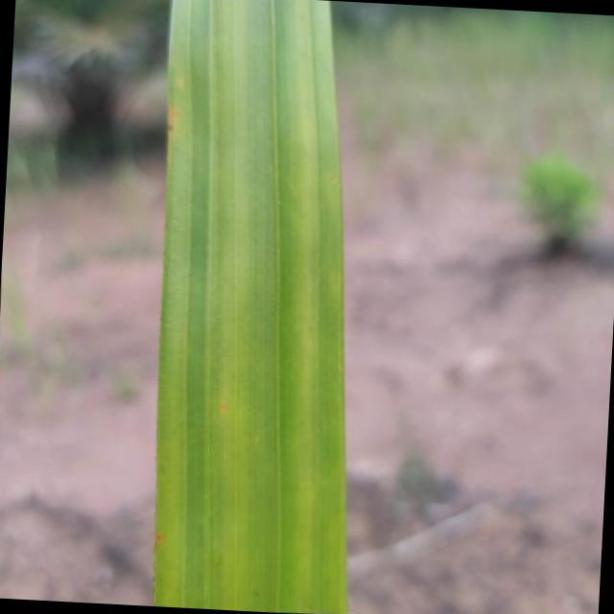nitrogen: (155, 0, 352, 614)
